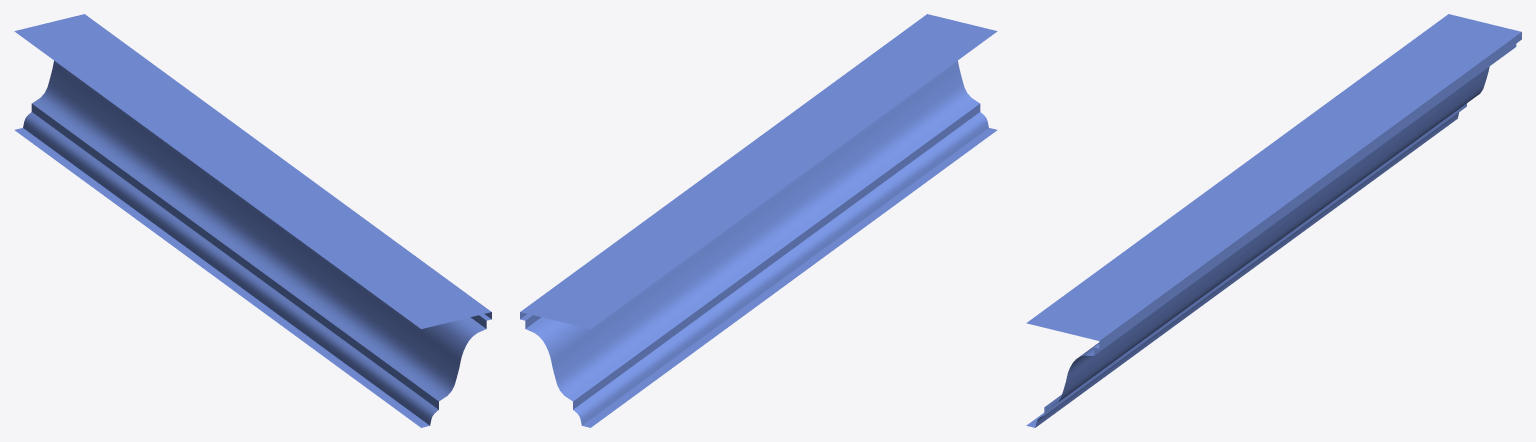
The model's file is Pared-Modular_DecSup.fbx.
3 views of the same model, side by side, from view 1: azimuth 30°, elevation 25°; view 2: azimuth 150°, elevation 25°; view 3: azimuth 330°, elevation 25° (orthographic). The views are drawn at different scales.
Parts seen in each view (by area): view 1: Decoracion-Pared-Sup; view 2: Decoracion-Pared-Sup; view 3: Decoracion-Pared-Sup.
Part boxes in pixels (<box>): Decoracion-Pared-Sup: <box>14,14,491,427</box>; Decoracion-Pared-Sup: <box>520,14,997,427</box>; Decoracion-Pared-Sup: <box>1026,14,1521,427</box>.
Bounding box in the file's own units: 20.01 × 26.76 × 200.
